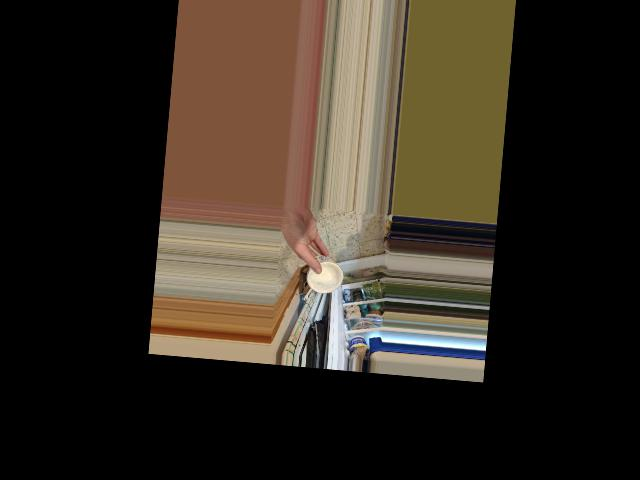cotage: (302, 250, 341, 296)
